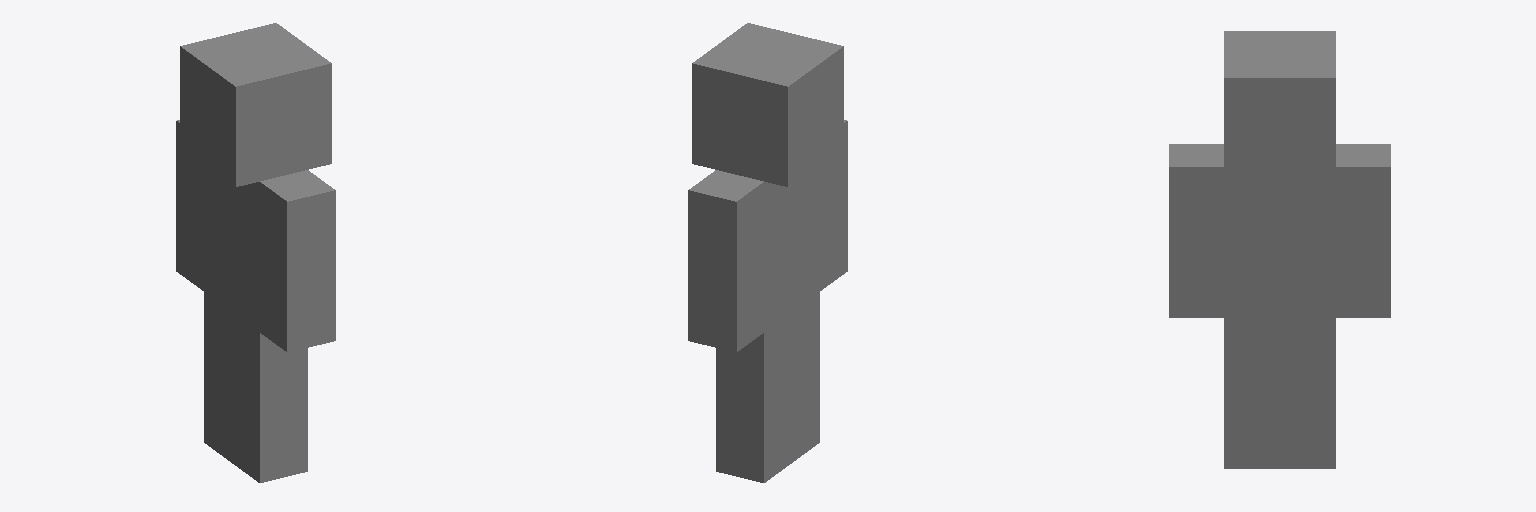
The model's file is zombie.obj.
3 views of the same model, side by side, from view 1: azimuth 30°, elevation 25°; view 2: azimuth 150°, elevation 25°; view 3: azimuth 270°, elevation 25° (orthographic).
Parts seen in each view (by area): view 1: Zombie_Mesh; view 2: Zombie_Mesh; view 3: Zombie_Mesh.
Part boxes in pixels (left/top/right/bottom): Zombie_Mesh: left=176, top=23, right=335, bottom=482; Zombie_Mesh: left=688, top=23, right=847, bottom=482; Zombie_Mesh: left=1169, top=31, right=1390, bottom=468.
Size of the model in its own units: 0.3991 by 1.6 by 0.7982.